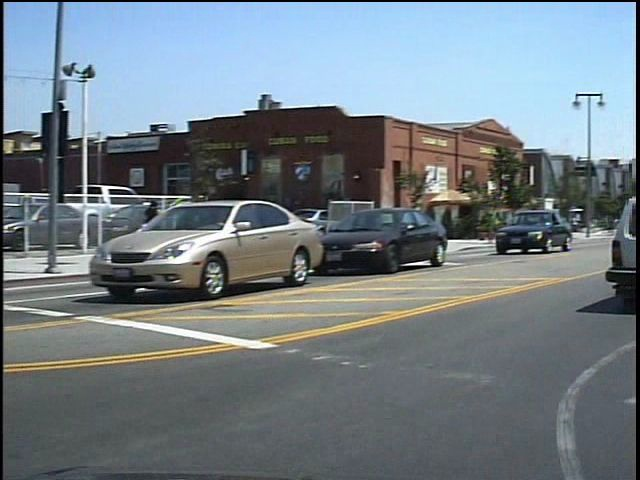person: (149, 193, 176, 259)
